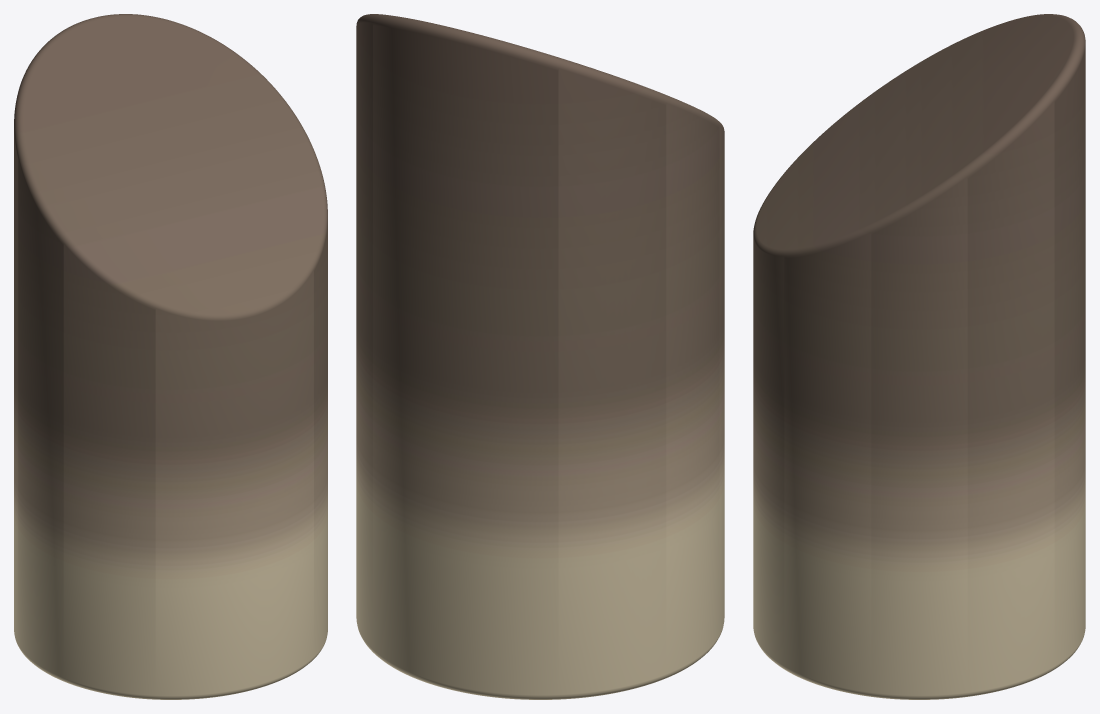
The model's file is bishop-black-hd.glb.
The picture shows the model from 3 angles, left to right: view 1: azimuth 30°, elevation 25°; view 2: azimuth 150°, elevation 25°; view 3: azimuth 270°, elevation 25°; orthographic projection. The views are drawn at different scales.
Visible parts, largest first — view 1: MONOLITH Střelec – Kouř (černý); view 2: MONOLITH Střelec – Kouř (černý); view 3: MONOLITH Střelec – Kouř (černý).
Part boxes in pixels (box(x1,y1,x2,y2)): MONOLITH Střelec – Kouř (černý): box(14, 14, 327, 699); MONOLITH Střelec – Kouř (černý): box(356, 14, 724, 699); MONOLITH Střelec – Kouř (černý): box(753, 14, 1085, 699).
Bounding box in the file's own units: 0.6617 × 1.31 × 0.6617.
1 material, 1 textured.
